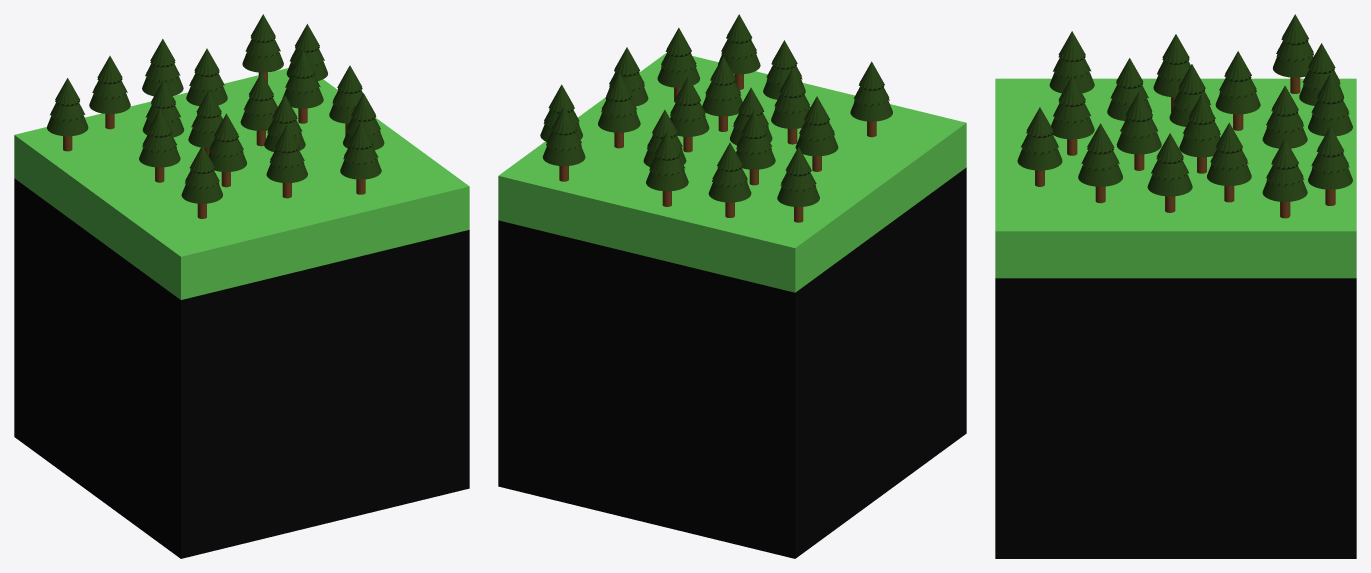
The model's file is Tile-Forest.glb.
3 views of the same model, side by side, from view 1: azimuth 30°, elevation 25°; view 2: azimuth 150°, elevation 25°; view 3: azimuth 270°, elevation 25° (orthographic). The views are drawn at different scales.
Parts seen in each view (by area): view 1: Cube; view 2: Cube; view 3: Cube.
Part boxes in pixels (bbox=[...]): Cube: bbox=[14, 14, 469, 558]; Cube: bbox=[498, 14, 966, 558]; Cube: bbox=[995, 14, 1356, 558].
Size of the model in its own units: 2 by 2.48 by 2.
